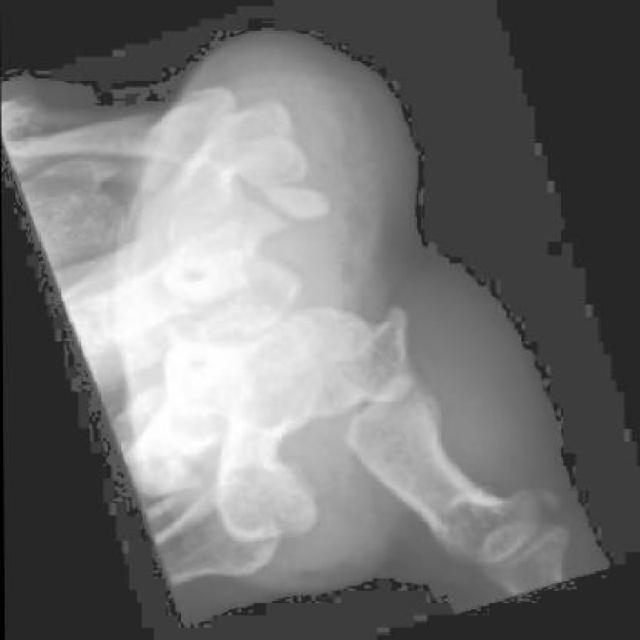Fracture: (251, 180, 310, 248)
